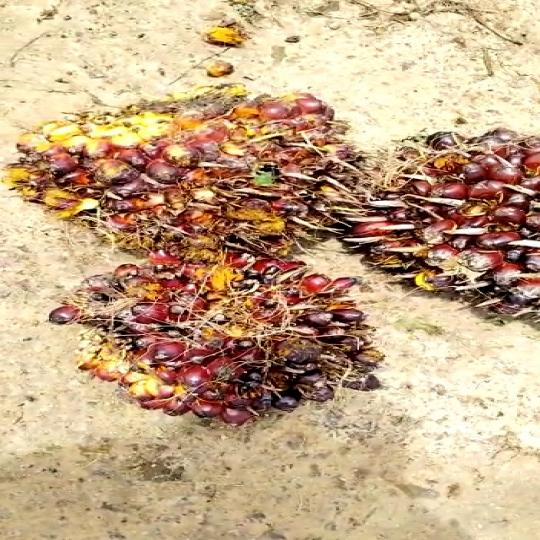masak: (46, 248, 406, 421), (10, 92, 366, 260), (324, 119, 540, 316)
